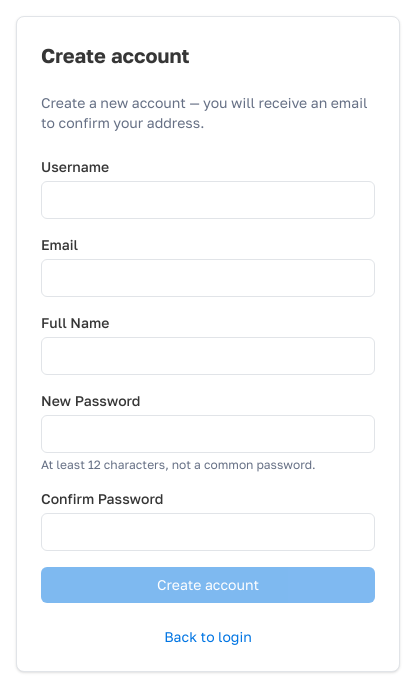
Test case: Register.vue WO-REG-6 › criterion1: successful registration shows confirmation, does not redirect
In the field with test id "register-username": (208, 200) [41,181,375,219], type "newuser"
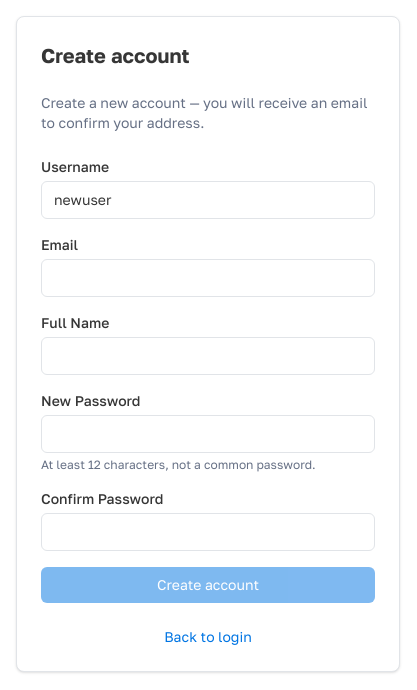
In the field with test id "register-email": (208, 278) [41,259,375,297], type "newuser@example.com"
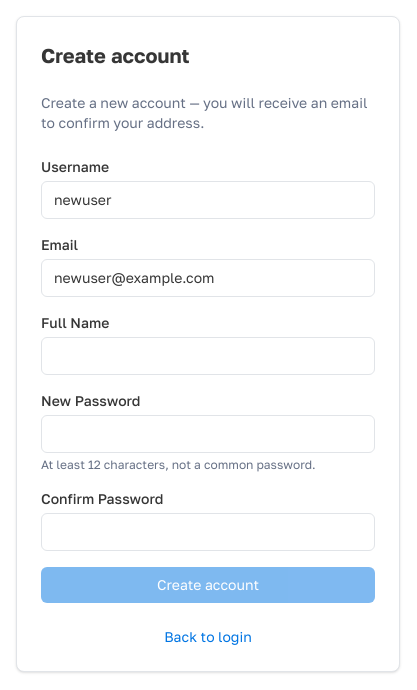
In the password field with test id "register-password": (208, 434) [41,415,375,453], type "a-genuinely-strong-Passphrase-42"
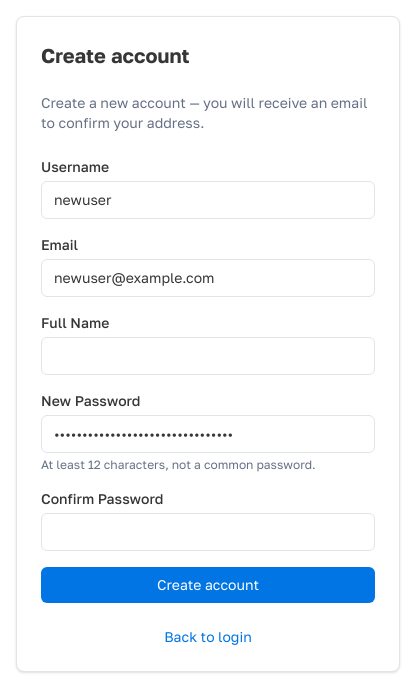
// confirm is second password input
In the password field below "Confirm Password": (208, 532) [41,513,375,551], type "a-genuinely-strong-Passphrase-42"
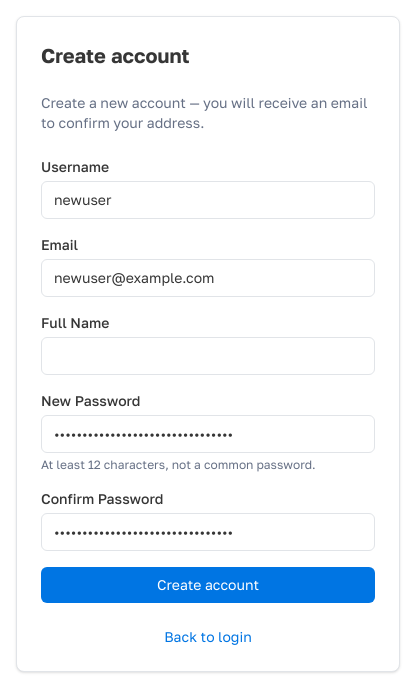
Submit the form, box [41,157,375,603]
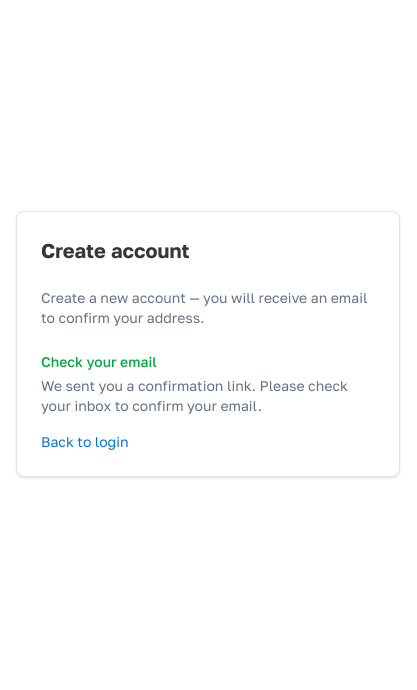
Check: the element with test id "register-success" is shown, box [41,352,375,452]
